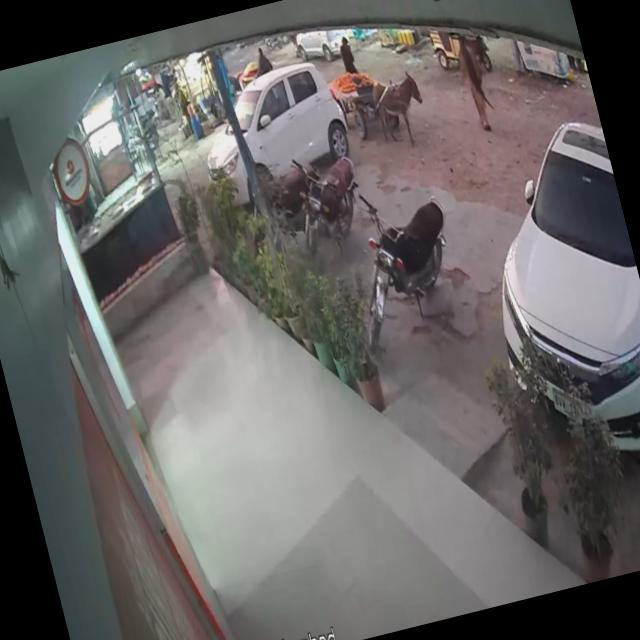Car: (442, 68, 640, 489), (163, 42, 360, 205)
Motorcycle: (330, 162, 482, 354), (288, 142, 377, 251)
